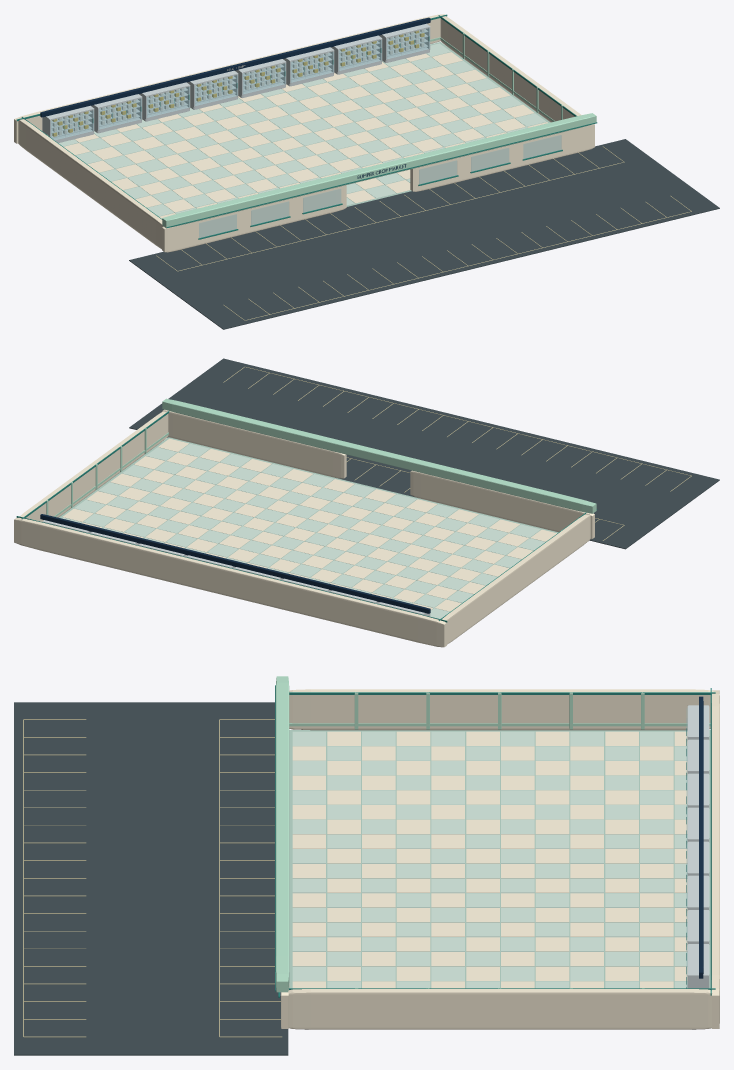
File: store_shell.glb
3 views of the same model, one above another, from view 1: azimuth 30°, elevation 25°; view 2: azimuth 150°, elevation 25°; view 3: azimuth 270°, elevation 25° (orthographic). The views are drawn at different scales.
Visible parts, largest first — view 1: Parking lot asphalt, Store floor foundation, Store front fascia, Store front wall wing, Store front wall wing.001, Store side wall, Store side wall.001, Rear fridge wall header, Store rear wall, Store front fascia stripe, Store front window.005, Store front window (+4 smaller); view 2: Parking lot asphalt, Store rear wall, Store floor foundation, Store front fascia, Store front wall wing.001, Store front wall wing, Store side wall, Store side wall.001, Rear fridge wall header, Store rear wall top trim, Parking stall row end.001; view 3: Parking lot asphalt, Store side wall.001, Store side wall, Store floor foundation, Store front fascia, Store rear wall, Store side wall lower mint band, Rear fridge wall header, Store side wall top trim, Rear fridge top cap.004, Rear fridge top cap.005, Store rear wall top trim (+6 smaller).
Boxes of the visible parts, <box> form: Parking lot asphalt: <box>129,139,719,329</box>; Store floor foundation: <box>64,42,550,216</box>; Store front fascia: <box>162,113,596,228</box>; Store front wall wing: <box>162,185,346,252</box>; Store front wall wing.001: <box>410,124,594,191</box>; Store side wall: <box>18,119,163,249</box>; Store side wall.001: <box>440,16,581,122</box>; Rear fridge wall header: <box>40,17,430,117</box>; Store rear wall: <box>14,14,444,143</box>; Store front fascia stripe: <box>166,122,597,227</box>; Store front window.005: <box>523,135,561,158</box>; Store front window: <box>303,189,340,212</box>; Parking lot asphalt: <box>129,358,719,549</box>; Store rear wall: <box>14,517,446,647</box>; Store floor foundation: <box>59,437,558,611</box>; Store front fascia: <box>162,398,596,513</box>; Store front wall wing.001: <box>162,409,346,478</box>; Store front wall wing: <box>410,470,594,539</box>; Store side wall: <box>442,514,590,644</box>; Store side wall.001: <box>18,411,168,521</box>; Rear fridge wall header: <box>40,514,430,613</box>; Store rear wall top trim: <box>16,516,447,622</box>; Parking stall row end.001: <box>245,367,691,475</box>; Parking lot asphalt: <box>14,702,288,1055</box>; Store side wall.001: <box>288,989,713,1029</box>; Store side wall: <box>289,689,713,730</box>; Store floor foundation: <box>289,730,710,988</box>; Store front fascia: <box>275,676,289,992</box>; Store rear wall: <box>711,690,719,1028</box>; Store side wall lower mint band: <box>289,723,710,726</box>; Rear fridge wall header: <box>699,696,703,978</box>; Store side wall top trim: <box>289,692,715,694</box>; Rear fridge top cap.004: <box>687,842,709,875</box>; Rear fridge top cap.005: <box>687,876,709,908</box>; Store rear wall top trim: <box>710,688,711,995</box>.
Bounding box in the file's own units: 60 × 4.09 × 50.8.
